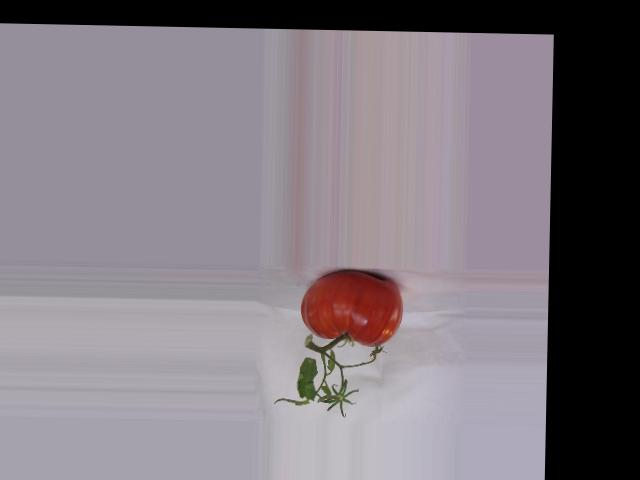tomato: (300, 268, 404, 346)
